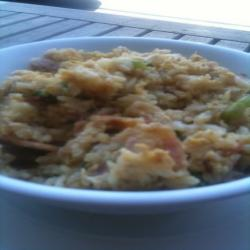rice: (2, 43, 250, 200)
